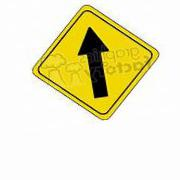forward: (33, 3, 161, 121)
